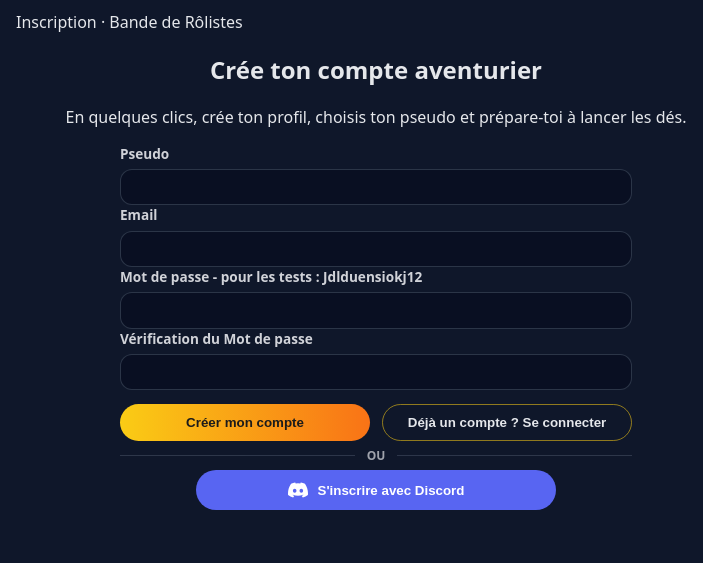
Test: AuthForms › blocks signup when the passwords do not match
Type "Neo" into the 1st field at (376, 187), box [120, 169, 632, 205]
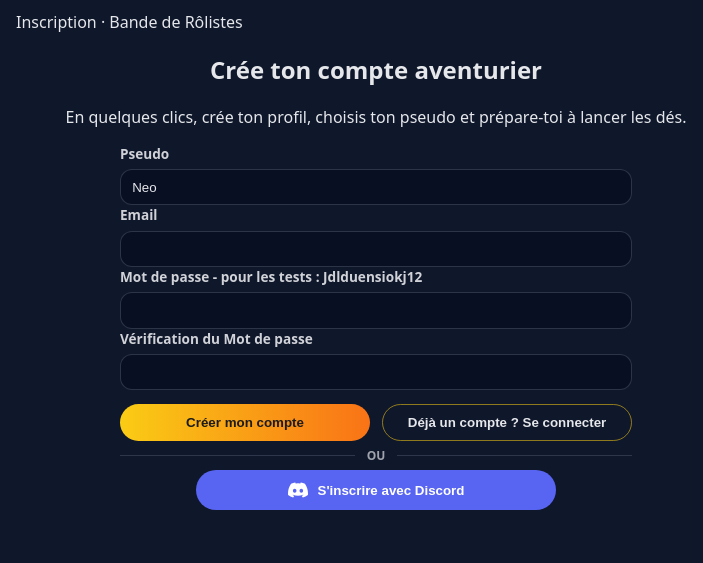
Type "neo@matrix.tld" into the field below "Email" at (376, 249), box [120, 231, 632, 267]
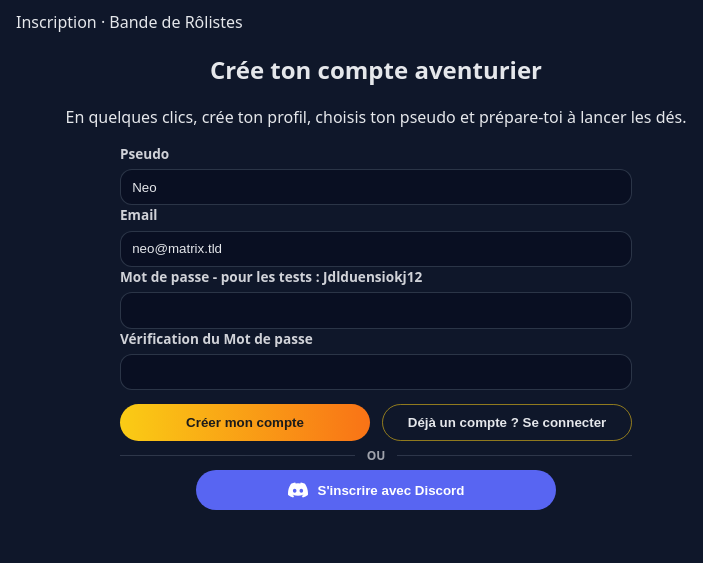
Type "Password12345" into the 1st password field at (376, 310), box [120, 292, 632, 329]
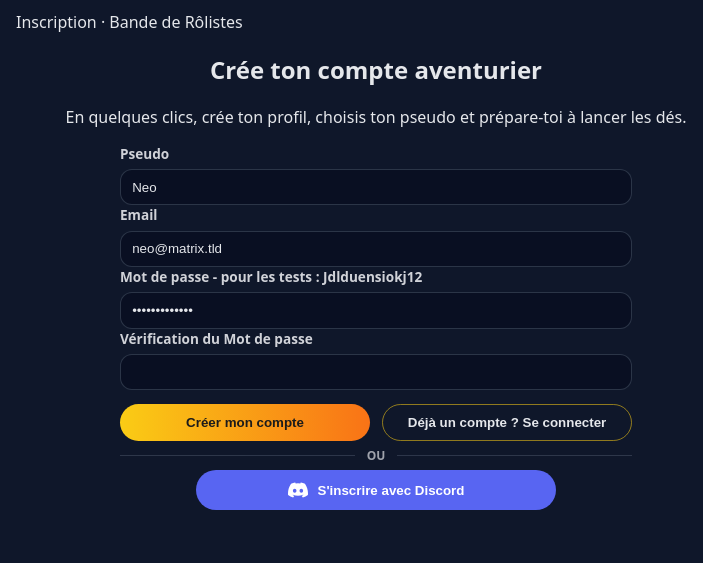
Type "Password54321" into the password field below "Vérification du Mot de passe" at (376, 372), box [120, 354, 632, 390]
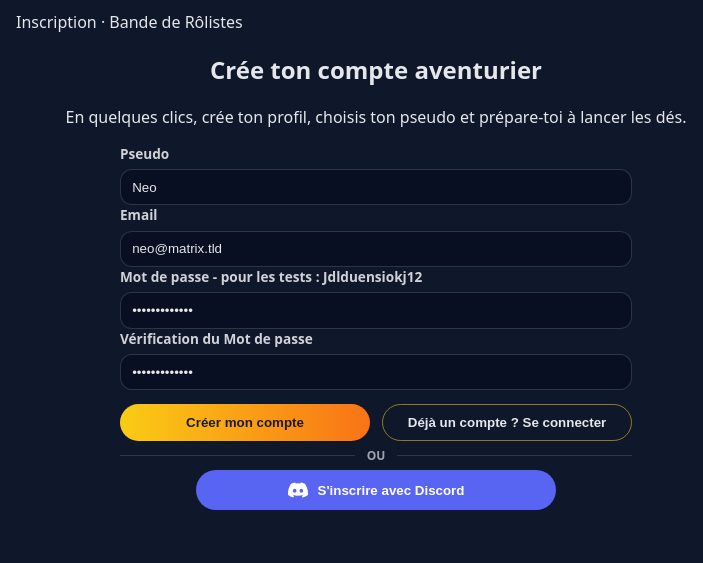
Click the button "Créer mon compte" at (245, 423), box [120, 404, 370, 441]
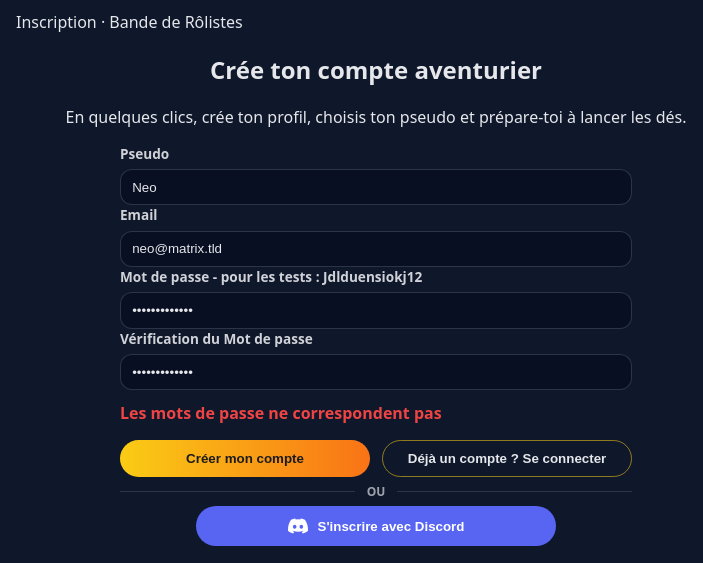
Now the text "Les mots de passe ne correspondent pas" is shown, box [120, 402, 442, 424]
